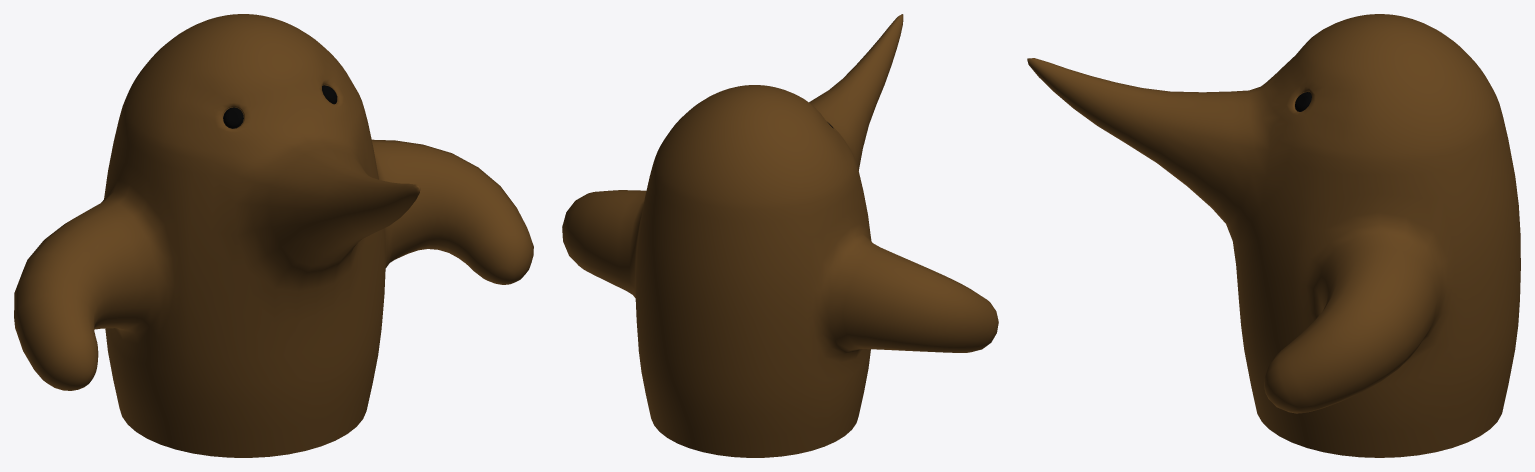
File: Mole 1.fbx
3 views of the same model, side by side, from view 1: azimuth 30°, elevation 25°; view 2: azimuth 150°, elevation 25°; view 3: azimuth 270°, elevation 25° (orthographic). The views are drawn at different scales.
Parts seen in each view (by area): view 1: Mole; view 2: Mole; view 3: Mole.
Boxes of the visible parts, x1=… form: Mole: x1=14, y1=14, x2=533, y2=457; Mole: x1=562, y1=14, x2=998, y2=457; Mole: x1=1027, y1=14, x2=1520, y2=457.
Bounding box in the file's own units: 5.4 × 4 × 4.69.
